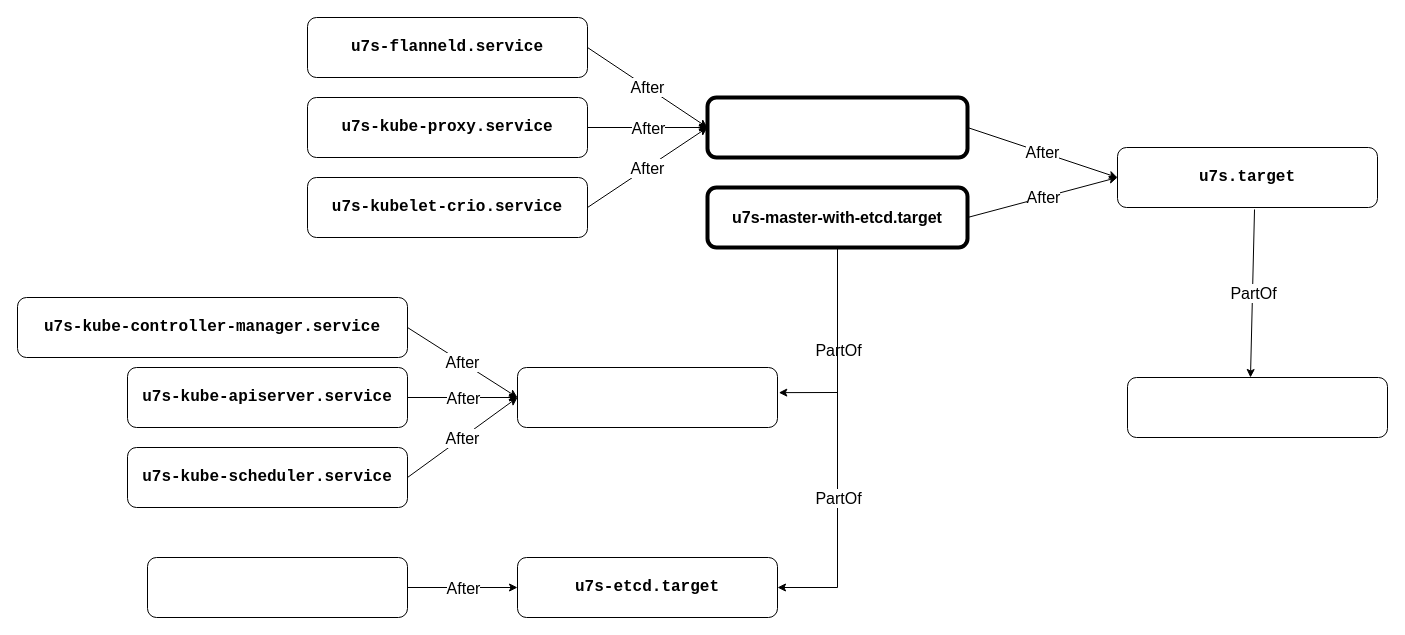
Image size: 1405x635. Some labels were removed from this diagram. The shapes that lost their labels are listed below. From the top down, each one's box as (x1, y1, x2, y2) in pixels, then its label:
(705, 95, 969, 159): u7s-node.target
(516, 366, 778, 428): u7s-master.target
(1126, 376, 1388, 438): u7s-rootlesskit.service boot/crio.sh
(146, 556, 408, 618): u7s-etcd.service
